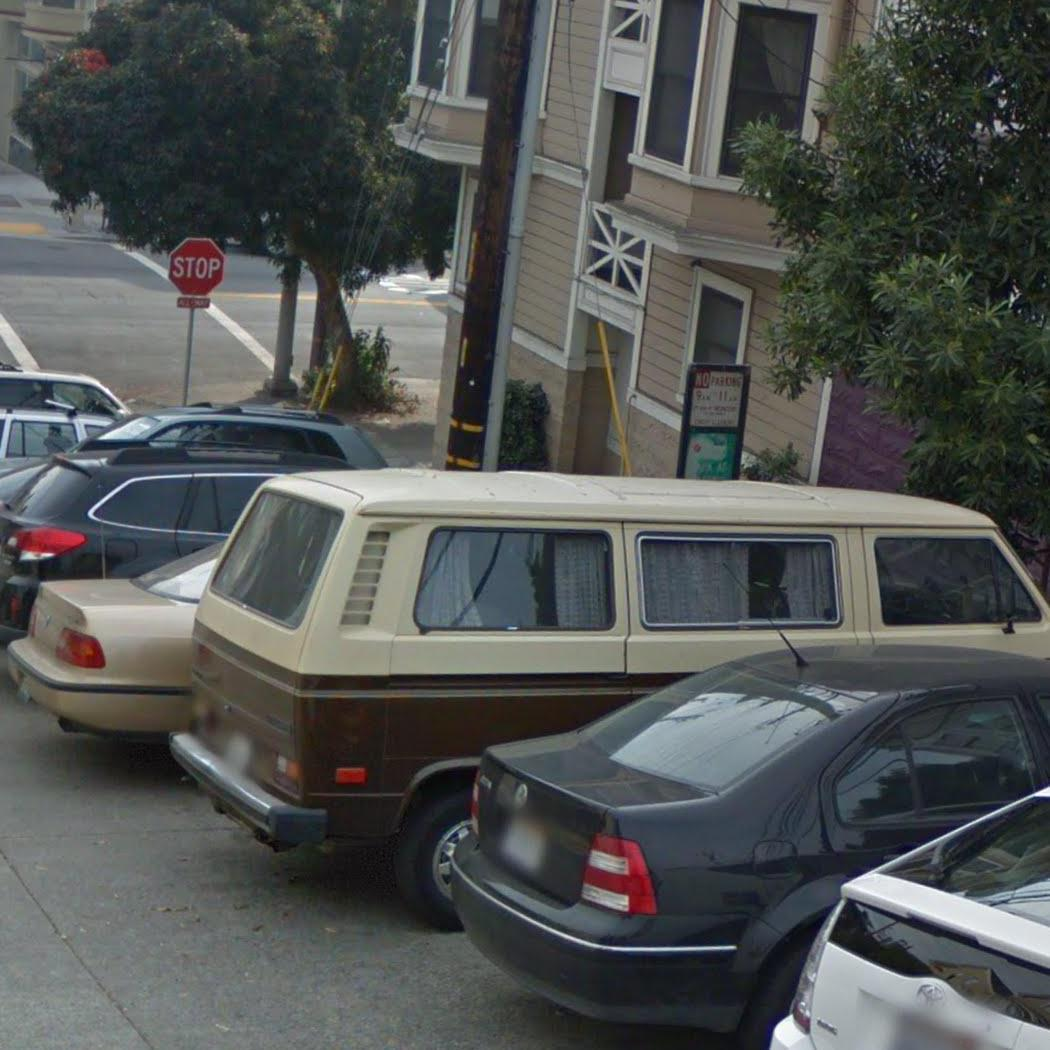No Parking: (685, 362, 749, 434)
